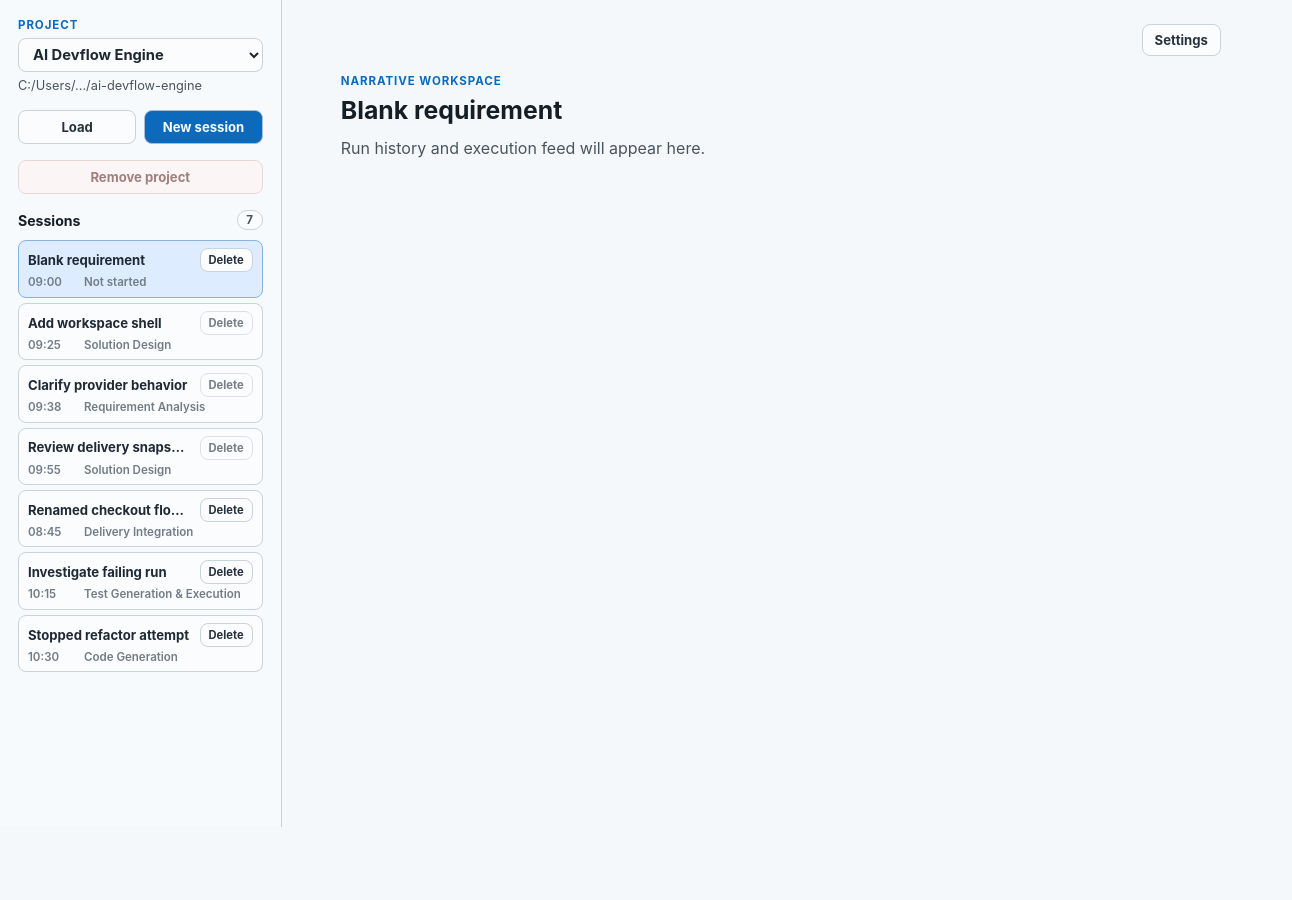
WorkspaceShell Inspector request plumbing › uses the page request options when grouped detail loads inside ConsolePage
Click the button with aria-label "Open Add workspace shell". click: (110, 323)
box: left=28, top=315, right=192, bottom=331
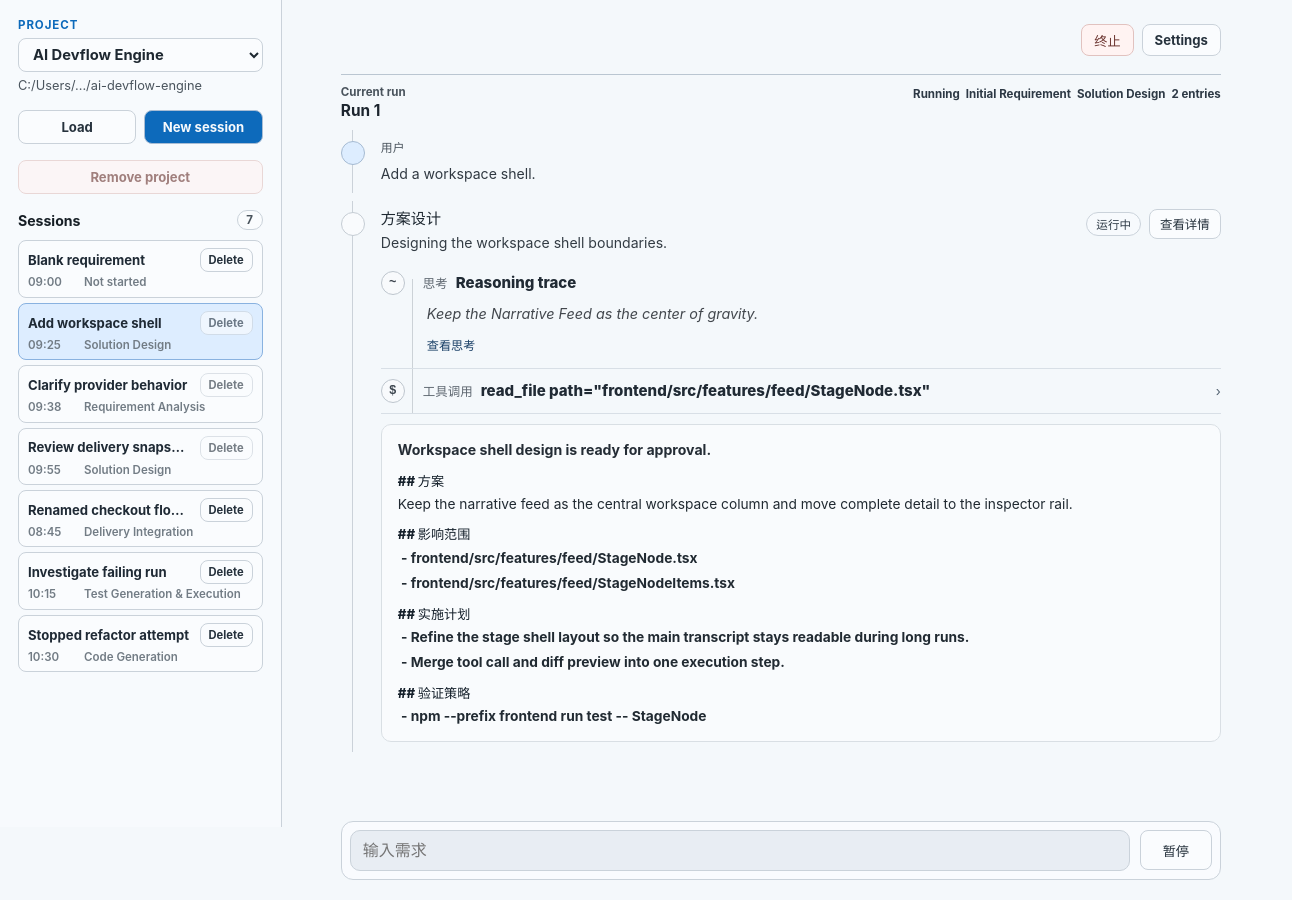
Click the button with aria-label "查看方案设计详情". click: (1185, 224)
box: left=1149, top=209, right=1221, bottom=239
(page scrolled)
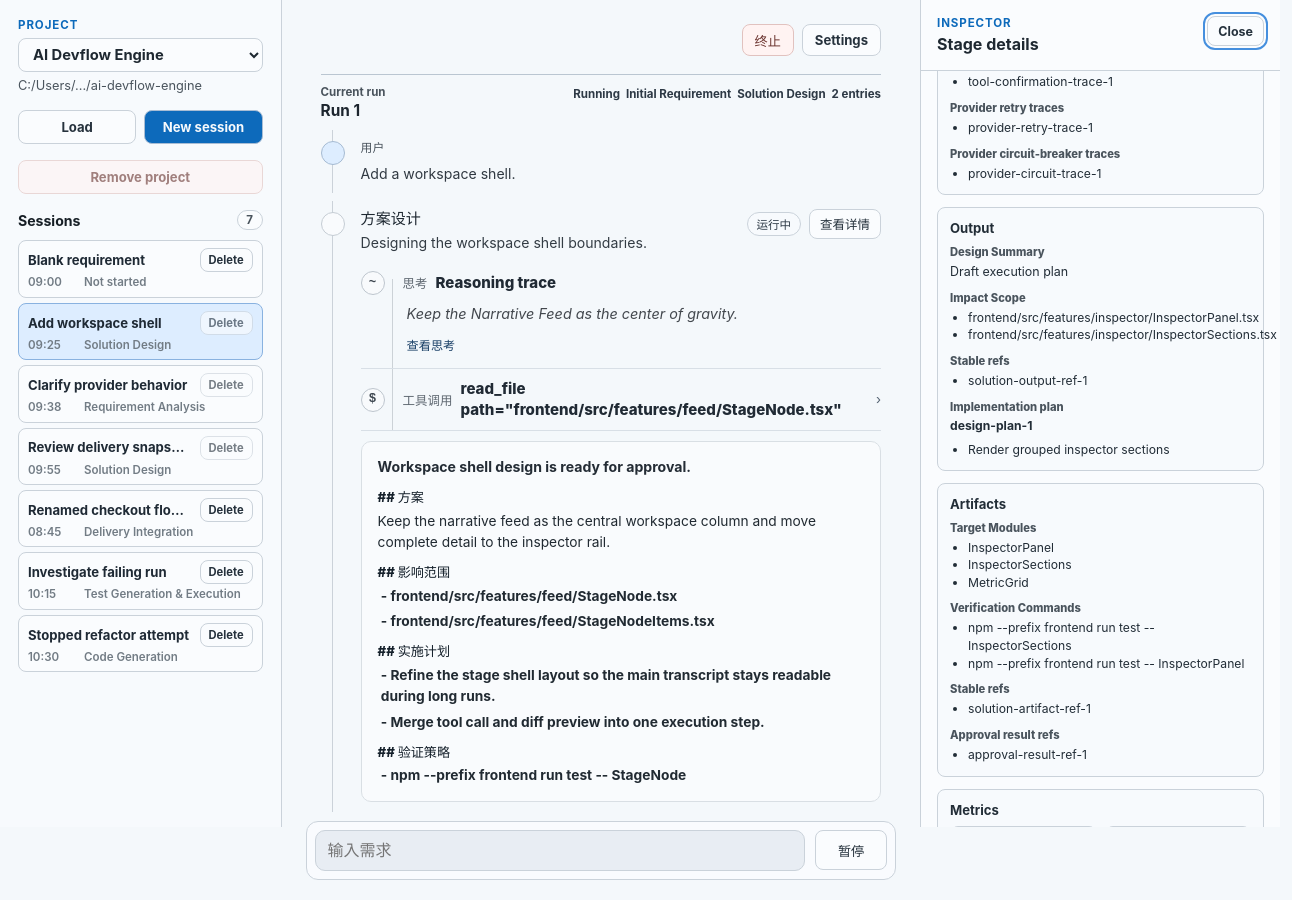
Expected: the list item "Render grouped inspector sections" is shown, left=968, top=442, right=1170, bottom=456
